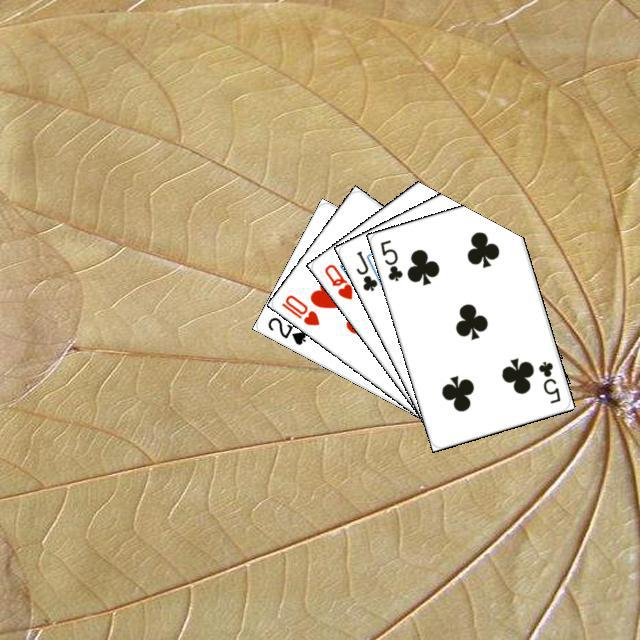10h: (276, 290, 321, 327)
2s: (263, 312, 308, 347)
5c: (375, 235, 405, 283), (533, 356, 562, 405)
Jc: (351, 246, 379, 293)
Qh: (319, 259, 354, 301)
